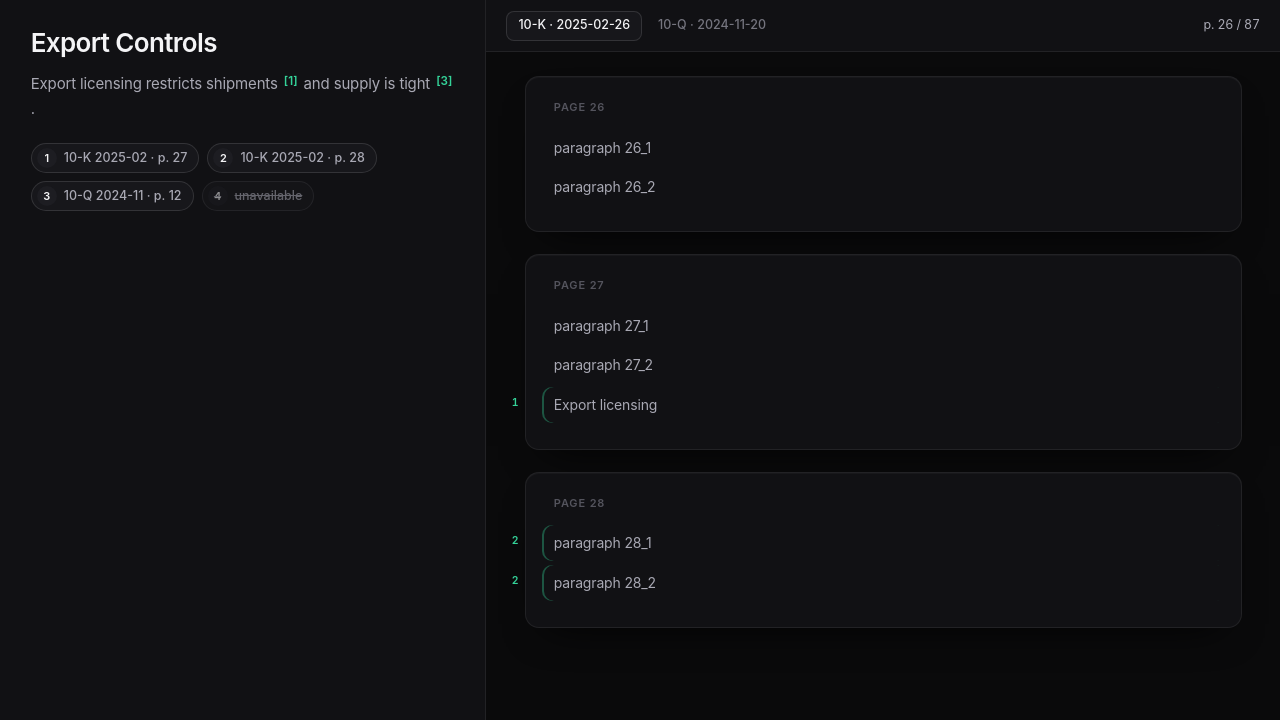
Test: clicking a citation › shows the cited text and its confidence, or says there is none
Click the button "1 10-K 2025-02 · p. 27" at (115, 158), box top-left (31, 144), bottom-right (199, 174)
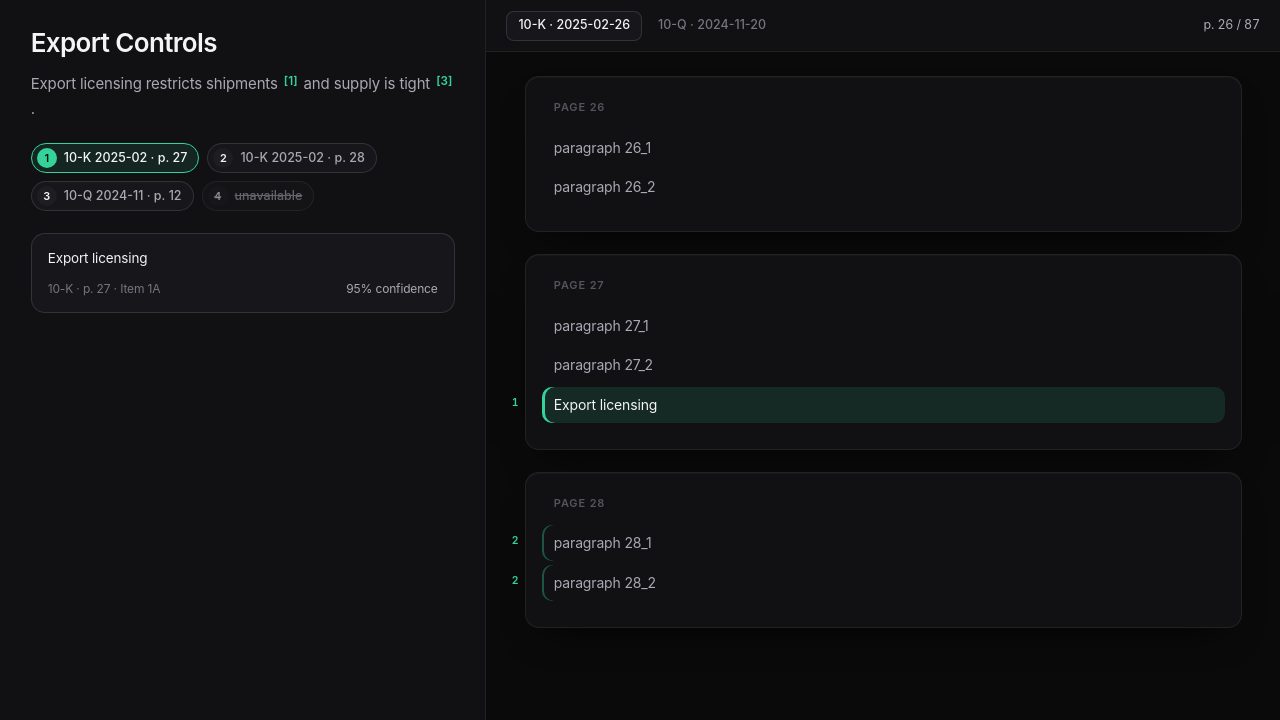
Expected: the text "Export licensing" below "Export licensing restricts shipments" is shown, top-left (48, 250), bottom-right (147, 266)
Expected: the text "95% confidence" is shown, top-left (346, 280), bottom-right (438, 298)
Click the button "3 10-Q 2024-11 · p. 12" at (112, 196), box top-left (31, 182), bottom-right (194, 212)
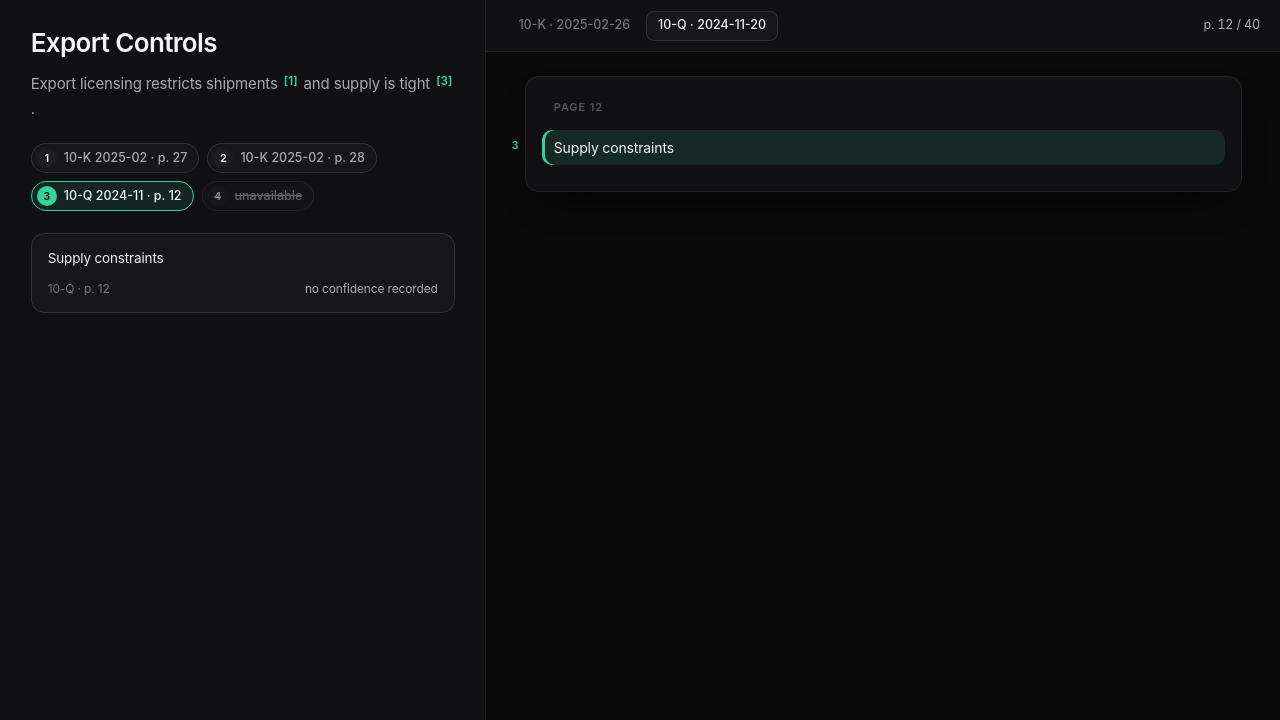
Expected: the text "no confidence recorded" is shown, top-left (305, 280), bottom-right (438, 298)
